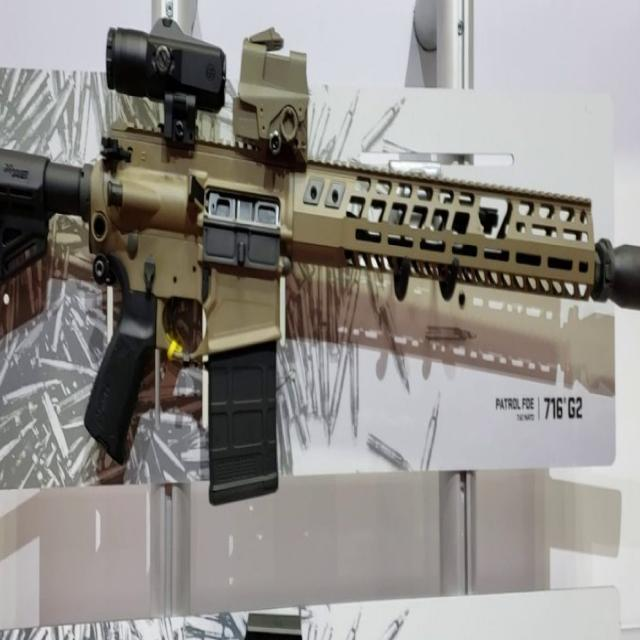Weapon: (0, 19, 640, 503)
